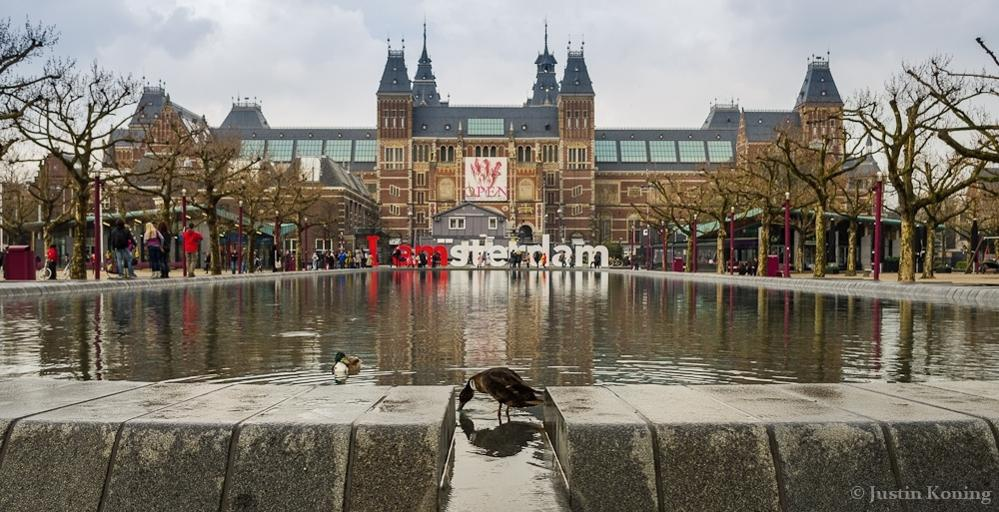non-vehicle: (38, 254, 53, 281), (60, 254, 73, 280)
